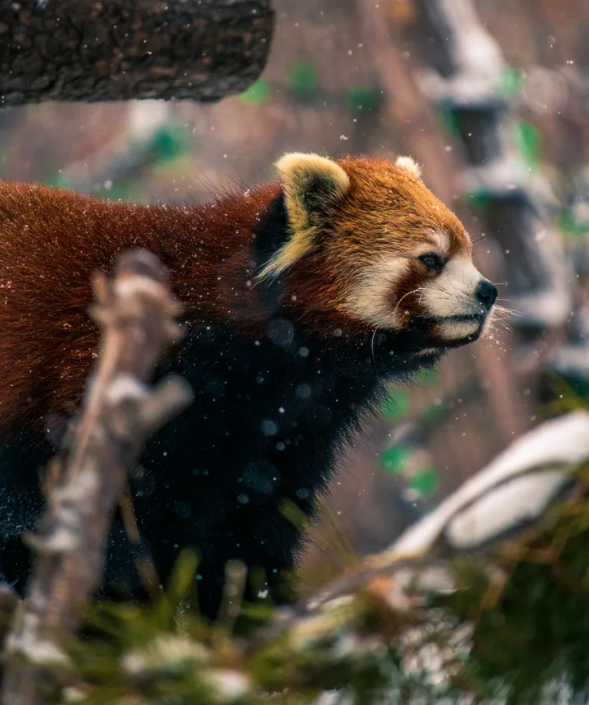red_panda: (1, 147, 503, 604)
